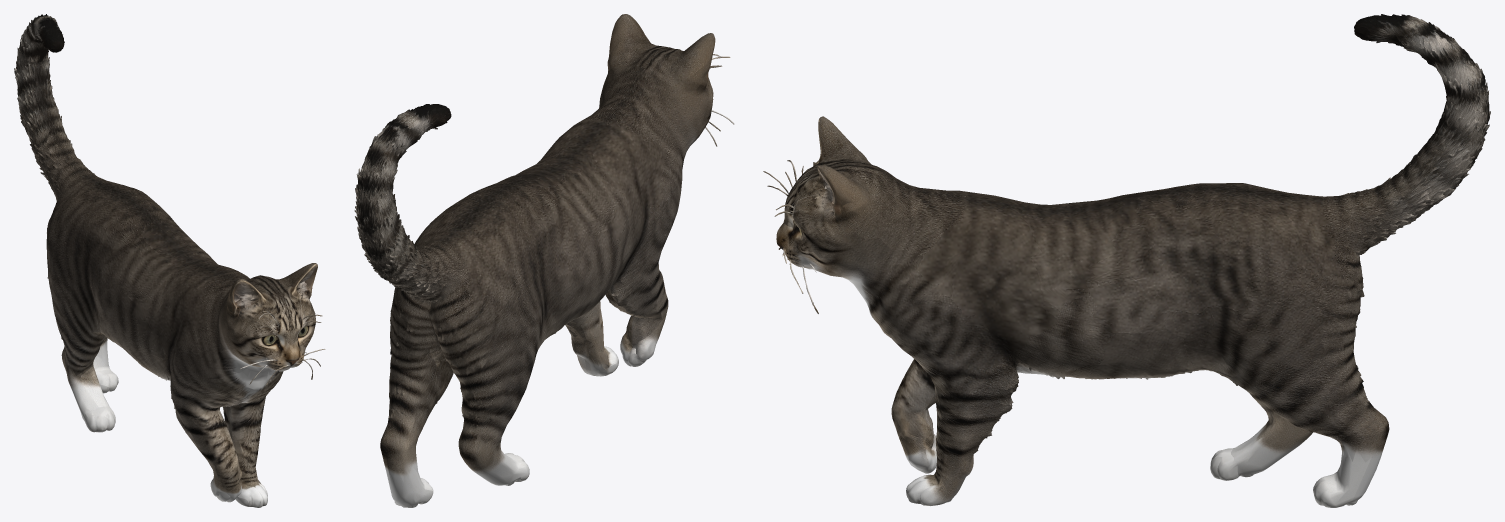
File: katze_original.glb
3 views of the same model, side by side, from view 1: azimuth 30°, elevation 25°; view 2: azimuth 150°, elevation 25°; view 3: azimuth 270°, elevation 25° (orthographic). The views are drawn at different scales.
Parts seen in each view (by area): view 1: mesh_node; view 2: mesh_node; view 3: mesh_node.
Boxes of the visible parts, box(x1,y1,x2,y2) form: mesh_node: box(14, 14, 325, 507); mesh_node: box(354, 14, 734, 507); mesh_node: box(763, 14, 1490, 507).
Bounding box in the file's own units: 0.4147 × 1.37 × 1.93.
1 material, 1 textured.
